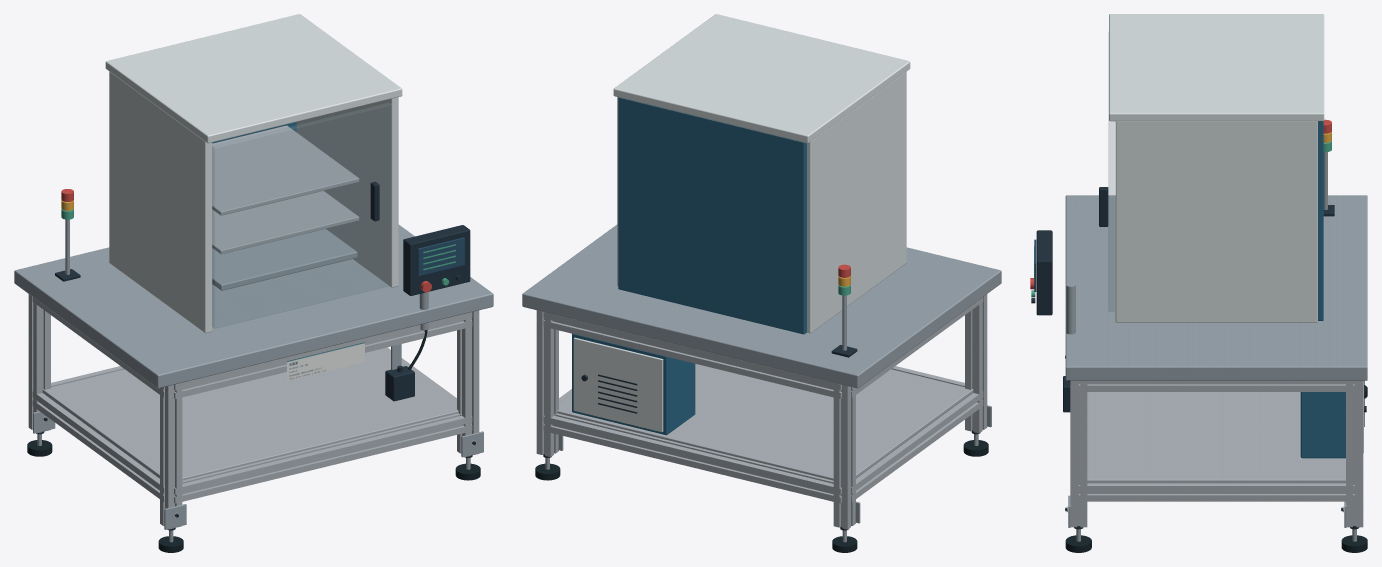
The model's file is retort-cell.glb.
The picture shows the model from 3 angles, left to right: view 1: azimuth 30°, elevation 25°; view 2: azimuth 150°, elevation 25°; view 3: azimuth 270°, elevation 25°; orthographic projection. The views are drawn at different scales.
Parts seen in each view (by area): view 1: DoorFrame_75, ClosedMachineBed_40, LowerShelf_41, ClosedRoof_74, EnclosureSide_71, EnclosureSide_72, InternalRack_79, SlottedExtrusion_34, InternalRack_78, ProcessShelf_77, SlottedExtrusion_35, SlottedExtrusion_11 (+8 smaller); view 2: ClosedBack_73, ClosedMachineBed_40, ClosedRoof_74, LowerShelf_41, EnclosureSide_71, BackDoor_43, SlottedExtrusion_32, SlottedExtrusion_33, SlottedExtrusion_3, SlottedExtrusion_19, Cabinet_42, SlottedExtrusion_36 (+2 smaller); view 3: EnclosureSide_72, ClosedMachineBed_40, ClosedRoof_74, LowerShelf_41, SlottedExtrusion_38, SlottedExtrusion_39, Cabinet_42, SlottedExtrusion_19, SlottedExtrusion_27, ConsoleBack_52, DoorFrame_75, ClosedBack_73 (+1 smaller).
Part boxes in pixels (left/top/right/bottom): DoorFrame_75: left=212, top=103, right=391, bottom=328; ClosedMachineBed_40: left=14, top=224, right=493, bottom=388; LowerShelf_41: left=42, top=348, right=458, bottom=480; ClosedRoof_74: left=105, top=14, right=402, bottom=143; EnclosureSide_71: left=109, top=71, right=212, bottom=333; EnclosureSide_72: left=296, top=97, right=398, bottom=287; InternalRack_79: left=212, top=125, right=359, bottom=215; SlottedExtrusion_34: left=174, top=413, right=472, bottom=503; InternalRack_78: left=212, top=191, right=359, bottom=254; ProcessShelf_77: left=212, top=229, right=357, bottom=290; SlottedExtrusion_35: left=174, top=312, right=472, bottom=398; SlottedExtrusion_11: left=160, top=383, right=182, bottom=529; ClosedBack_73: left=618, top=97, right=806, bottom=334; ClosedMachineBed_40: left=522, top=224, right=1001, bottom=388; ClosedRoof_74: left=613, top=14, right=910, bottom=143; LowerShelf_41: left=557, top=364, right=973, bottom=480; EnclosureSide_71: left=807, top=71, right=906, bottom=333; BackDoor_43: left=573, top=337, right=663, bottom=432; SlottedExtrusion_32: left=543, top=413, right=841, bottom=503; SlottedExtrusion_33: left=543, top=312, right=841, bottom=398; SlottedExtrusion_3: left=833, top=383, right=855, bottom=529; SlottedExtrusion_19: left=536, top=310, right=558, bottom=456; Cabinet_42: left=572, top=333, right=695, bottom=435; SlottedExtrusion_36: left=851, top=391, right=983, bottom=502; EnclosureSide_72: left=1115, top=121, right=1317, bottom=322; ClosedMachineBed_40: left=1065, top=195, right=1367, bottom=380; ClosedRoof_74: left=1109, top=14, right=1324, bottom=121; LowerShelf_41: left=1087, top=392, right=1345, bottom=483; SlottedExtrusion_38: left=1078, top=483, right=1354, bottom=501; SlottedExtrusion_39: left=1078, top=380, right=1354, bottom=391; Cabinet_42: left=1300, top=392, right=1345, bottom=458; SlottedExtrusion_19: left=1346, top=380, right=1363, bottom=527; SlottedExtrusion_27: left=1070, top=380, right=1087, bottom=527; ConsoleBack_52: left=1036, top=230, right=1052, bottom=315; DoorFrame_75: left=1108, top=32, right=1114, bottom=311; ClosedBack_73: left=1318, top=121, right=1323, bottom=320.
Size of the model in its own units: 1.55 by 1.71 by 1.29.
12 materials, 3 textured.
